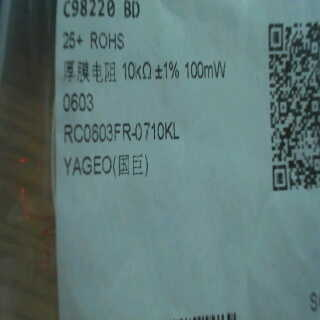10kR: (117, 56, 154, 86)
